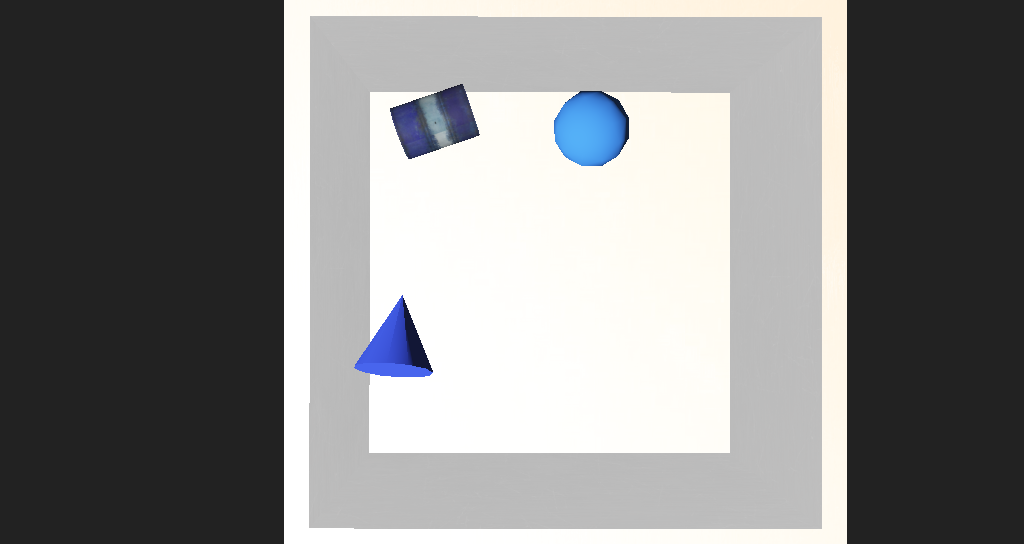cone: (374, 155, 448, 208)
cylinder: (340, 274, 414, 336)
sphere: (505, 165, 573, 208)
